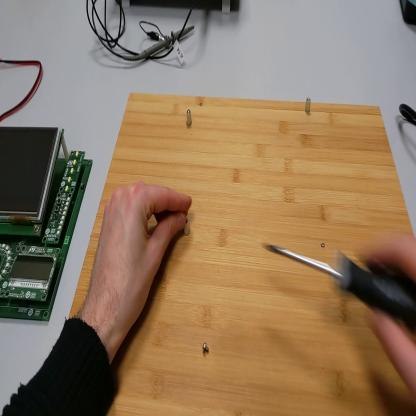hand: (88, 183, 192, 334), (360, 234, 416, 390)
low voltage board: (1, 122, 94, 325)
oscilloscope: (121, 1, 243, 13)
oscilloscope probe tip: (140, 23, 197, 61)
screwdriver-: (265, 240, 416, 335)
welder station: (400, 1, 416, 29)
working area: (72, 95, 416, 416)
